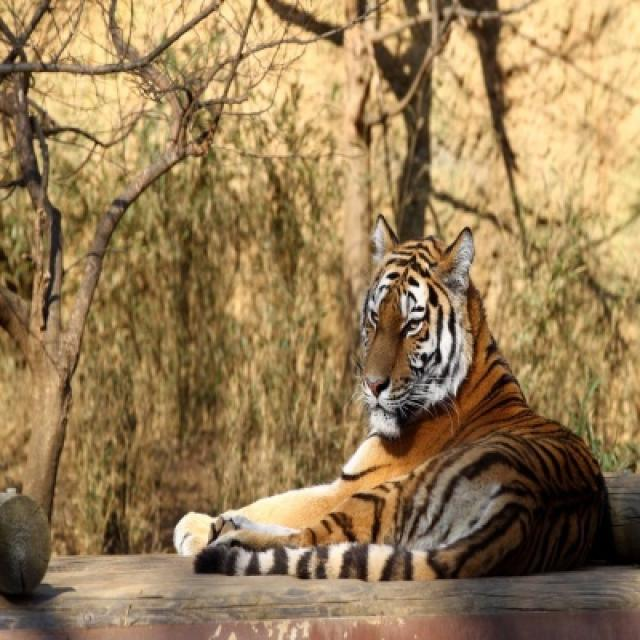Tiger: (179, 214, 619, 580)
